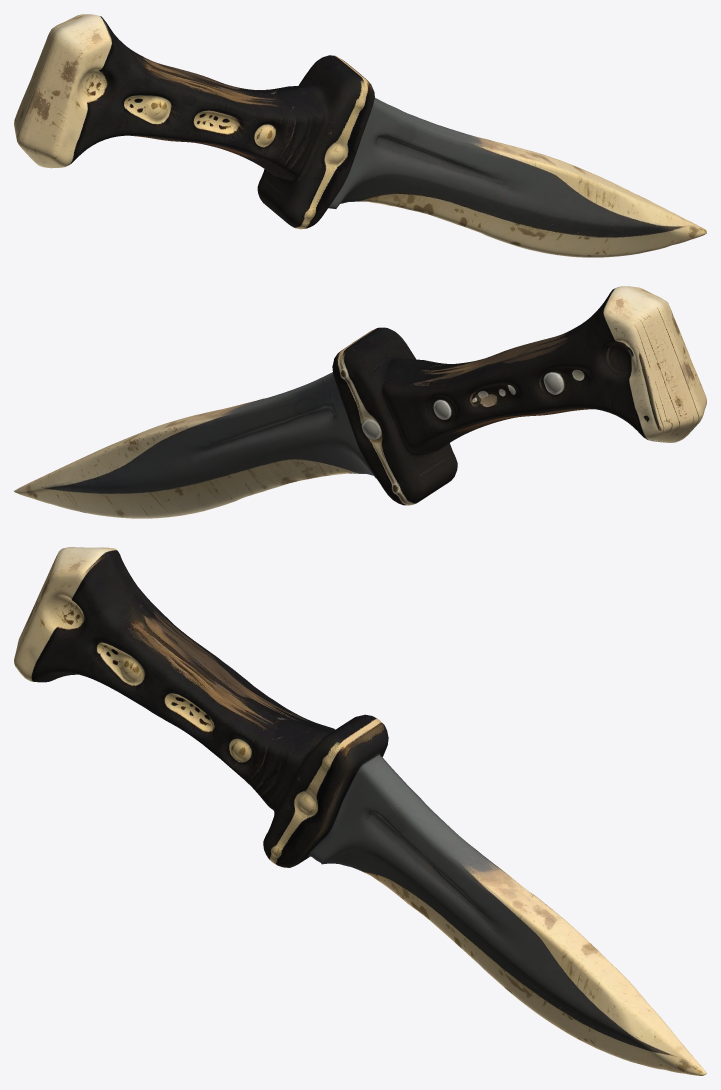
The picture shows the model from 3 angles, top to bottom: view 1: azimuth 30°, elevation 25°; view 2: azimuth 150°, elevation 25°; view 3: azimuth 330°, elevation 25°; orthographic projection. The views are drawn at different scales.
Size of the model in its own units: 1.91 by 0.9613 by 0.2237.
Materials: 1 (1 with a texture image).
